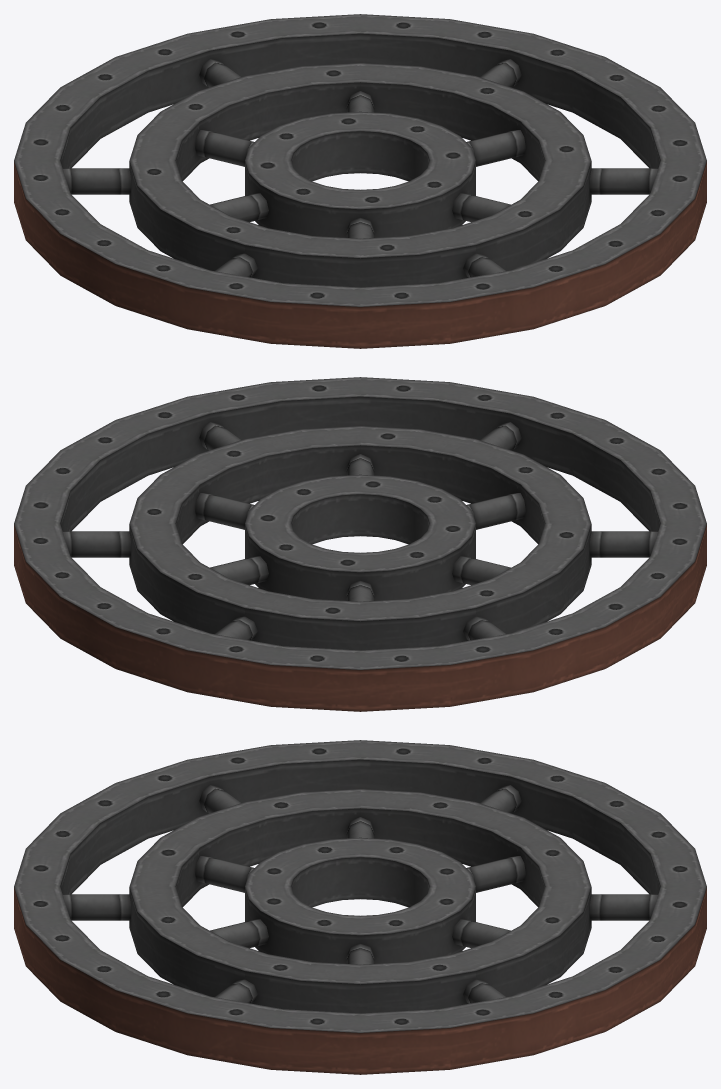
File: canopus_fairing_s1p5_1.obj
3 views of the same model, one above another, from view 1: azimuth 30°, elevation 25°; view 2: azimuth 150°, elevation 25°; view 3: azimuth 270°, elevation 25° (orthographic).
Visible parts, largest first — view 1: mesh1; view 2: mesh1; view 3: mesh1.
Part boxes in pixels (x1=…): mesh1: x1=14, y1=14, x2=706, y2=348; mesh1: x1=14, y1=377, x2=706, y2=711; mesh1: x1=14, y1=740, x2=706, y2=1074.
Size of the model in its own units: 1.88 by 0.125 by 1.88.
1 material, 1 textured.
